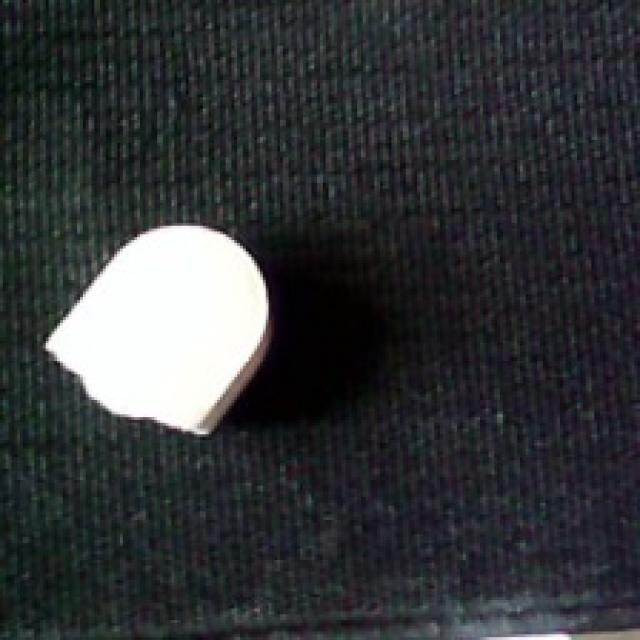defected: (34, 211, 280, 440)
